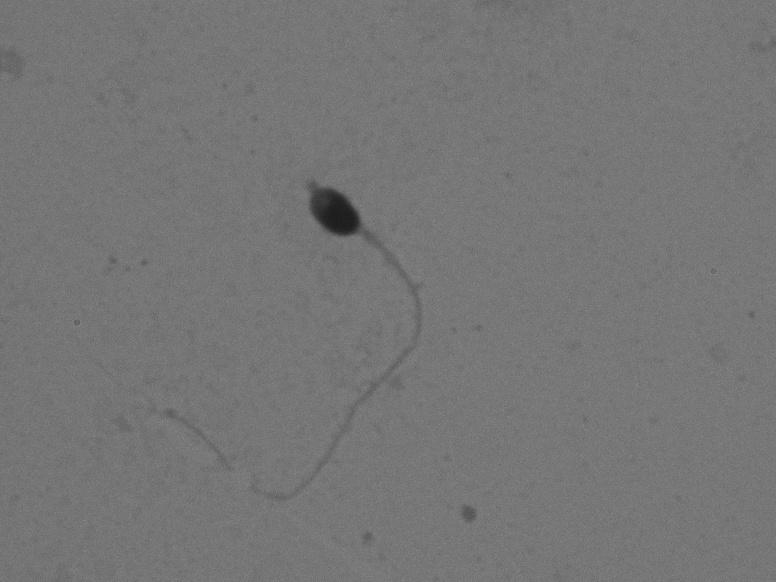Abnormal: (63, 115, 508, 529)
